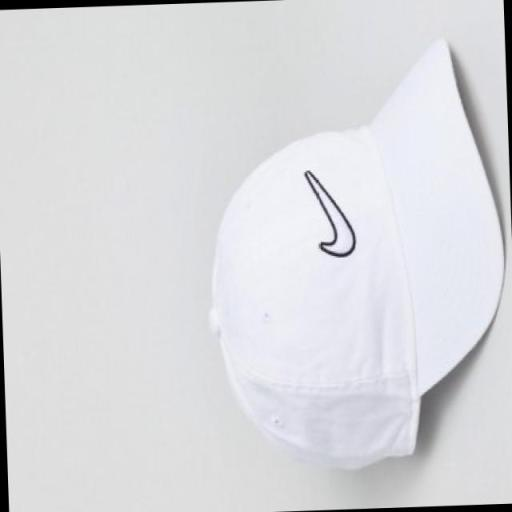Nike: (302, 169, 360, 264)
